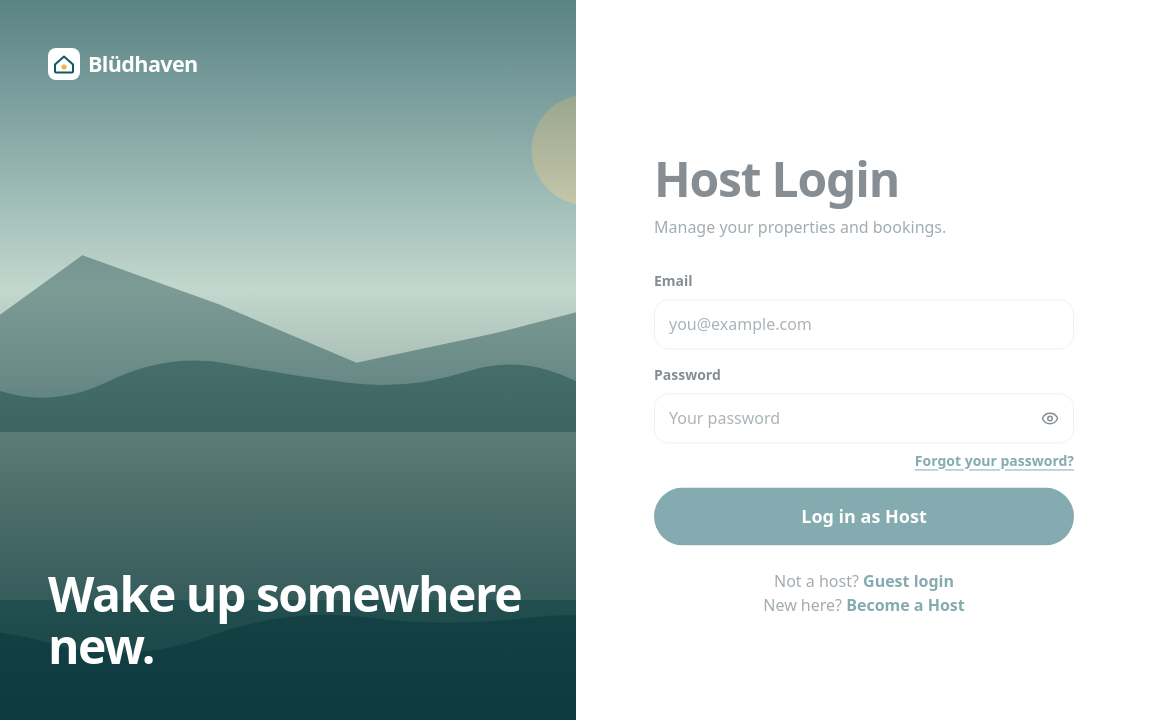
Test: Login with an unverified account › /host/login says the email must be verified, offers a new link, and signs nobody in
Type "ada@example.com" into the field labelled "Email" at (864,324), box left=654, top=299, right=1074, bottom=349
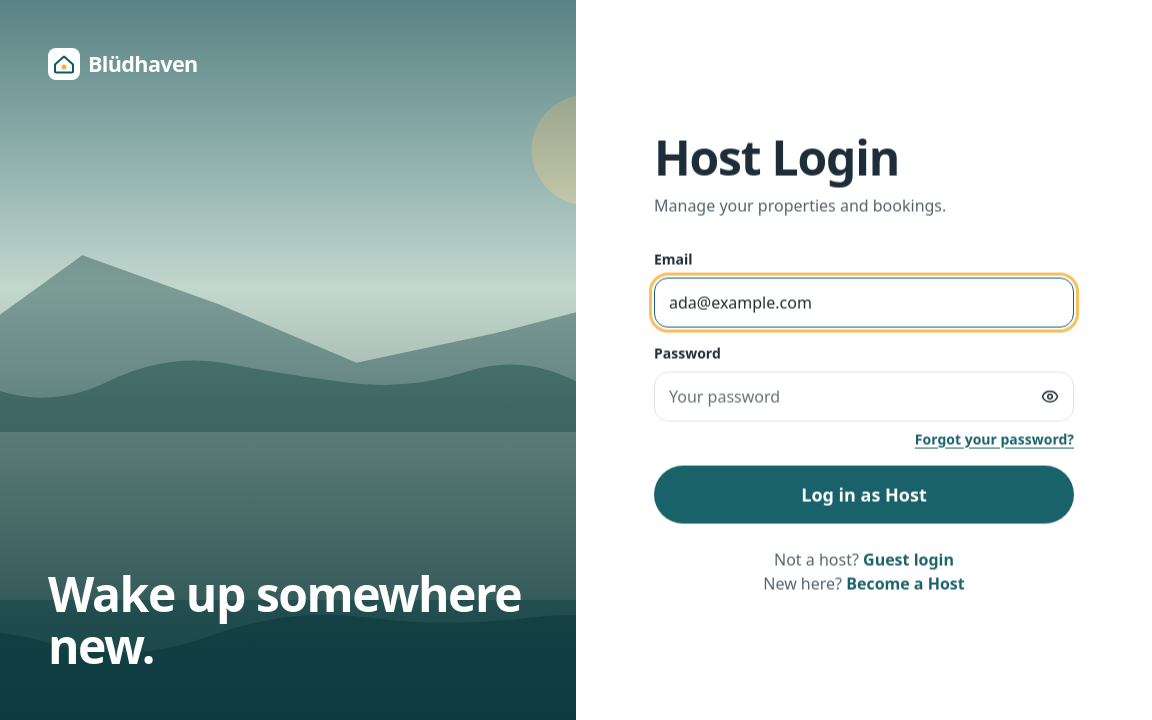
Type "Secret-pass-123" into the password field labelled "Password" at (864,396), box left=654, top=371, right=1074, bottom=421
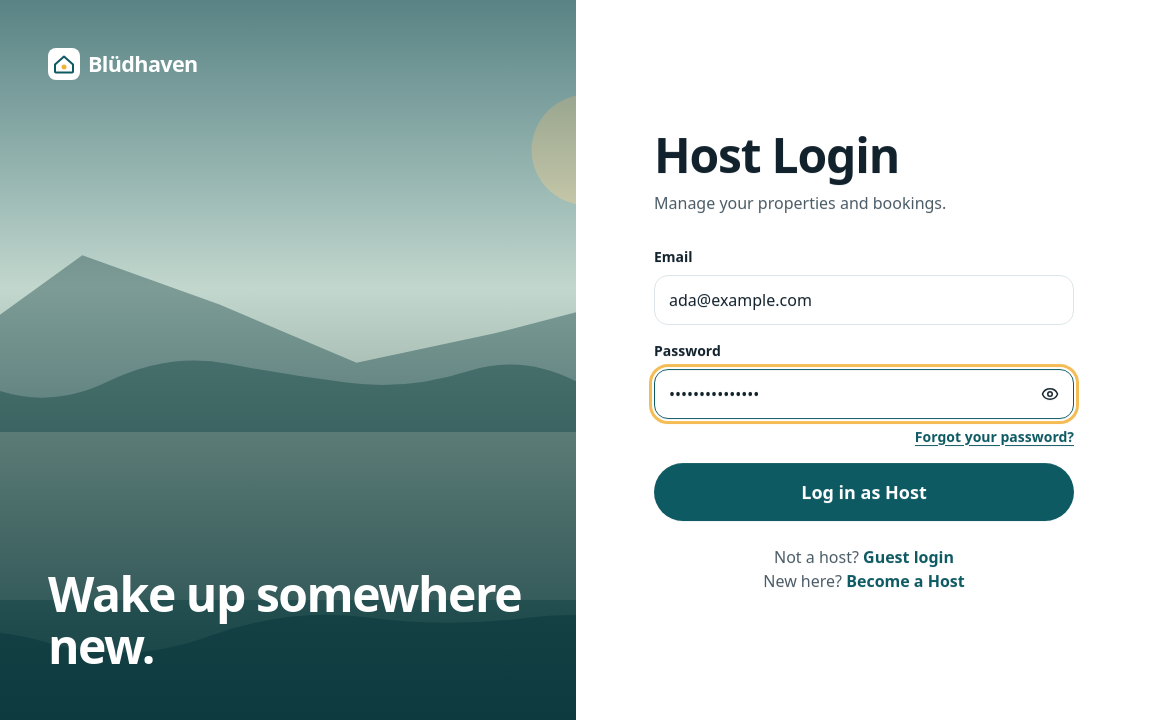
Click the button "Log in as Host" at (864,492), box left=654, top=463, right=1074, bottom=521
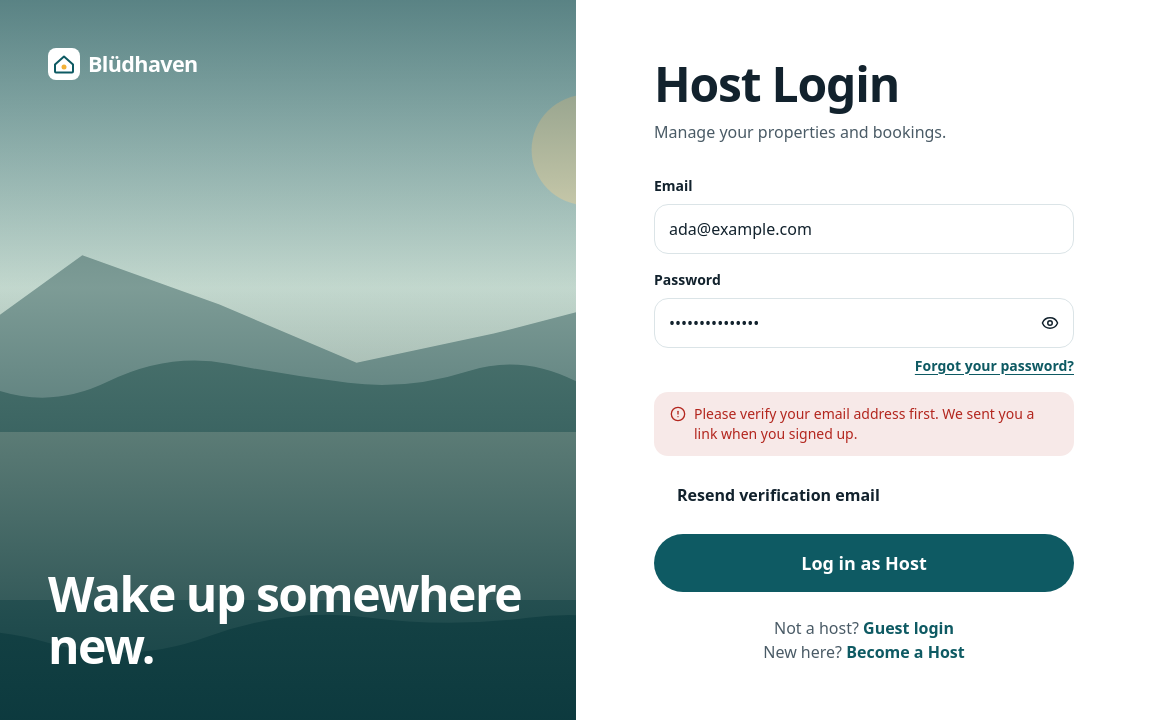
expect the link "Forgot your password?" is shown: met, box left=915, top=356, right=1074, bottom=375
expect the text "verify your email address" is shown: met, box left=694, top=404, right=1034, bottom=443
Click the button "Resend verification email" at (778,495), box left=654, top=472, right=903, bottom=518
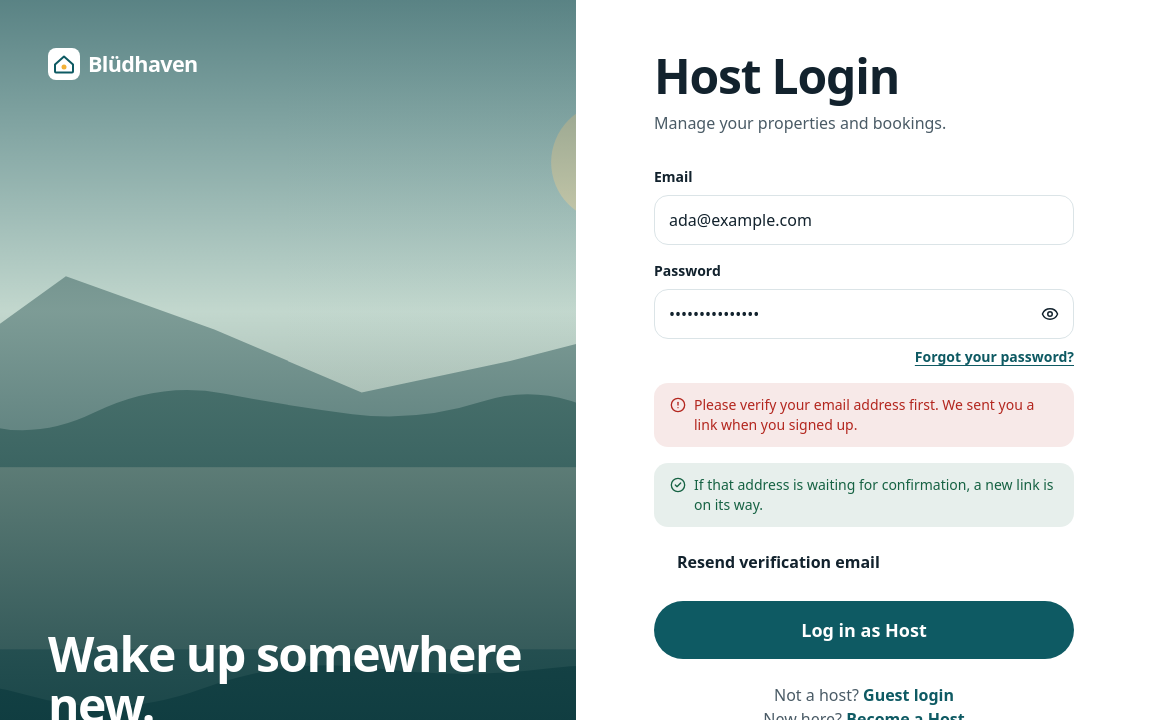
expect the text "new link is on its way" is shown: met, box left=694, top=475, right=1054, bottom=514
